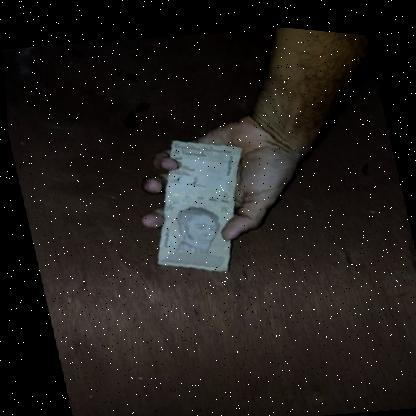five-front-vef: (137, 128, 259, 277)
